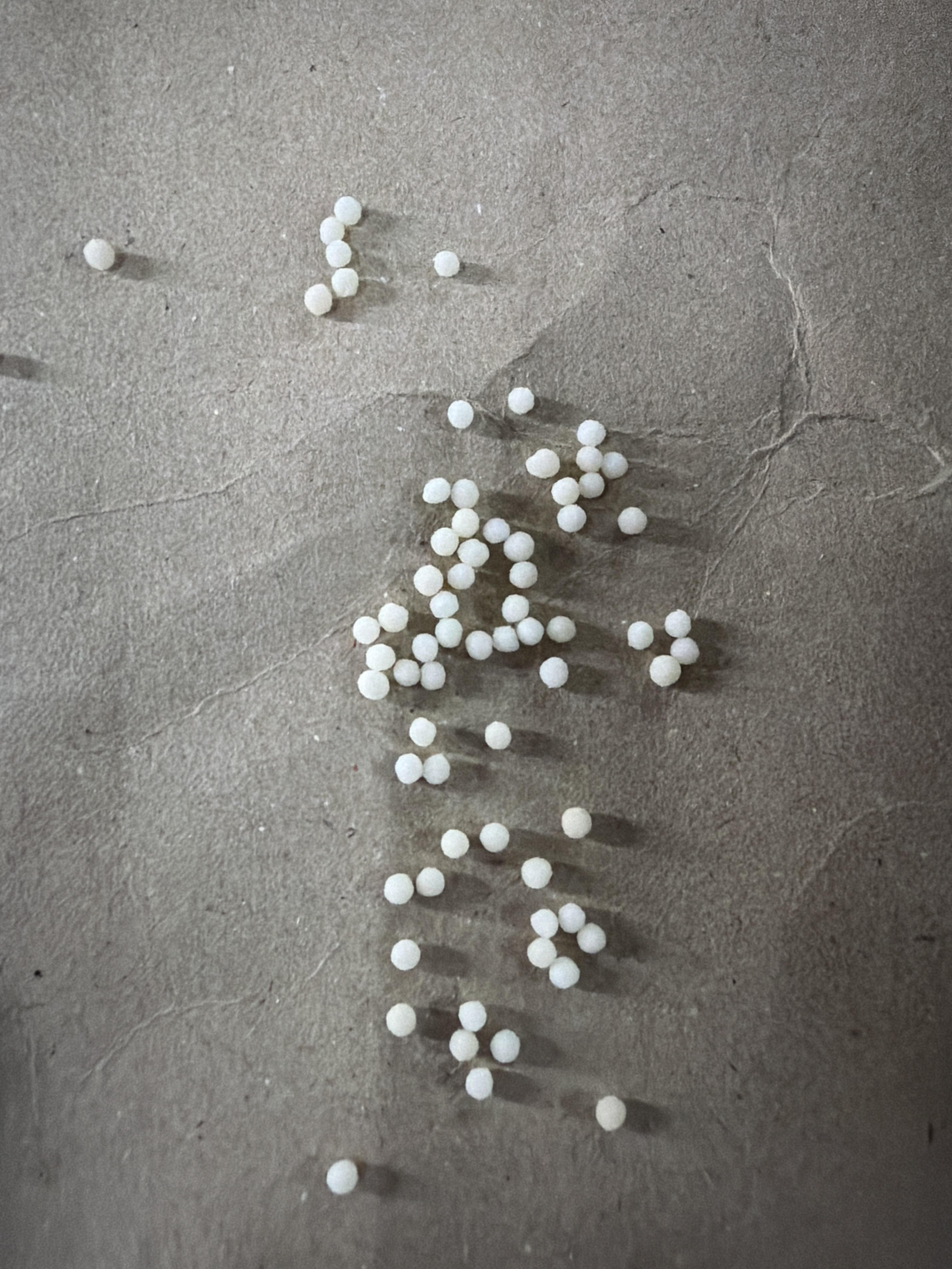pill: (326, 1159, 359, 1195), (595, 1095, 626, 1131), (83, 238, 116, 271), (548, 956, 580, 989), (490, 1029, 520, 1064), (386, 1003, 416, 1038), (525, 448, 560, 478), (649, 655, 681, 687), (449, 1028, 479, 1062), (561, 807, 592, 839), (521, 857, 552, 889), (503, 531, 535, 562), (457, 538, 489, 569), (527, 936, 557, 969), (384, 873, 414, 905), (357, 670, 389, 700), (479, 822, 509, 853), (390, 940, 420, 971), (377, 603, 408, 633), (577, 922, 606, 954), (458, 1000, 487, 1032), (465, 1067, 493, 1100), (557, 503, 587, 533), (413, 566, 443, 596), (416, 866, 445, 897), (539, 657, 568, 688), (394, 753, 423, 784), (333, 196, 362, 227), (304, 284, 332, 316), (440, 829, 469, 859), (617, 506, 647, 535), (429, 590, 459, 619), (430, 527, 459, 557), (450, 478, 479, 508), (530, 908, 558, 939), (409, 716, 437, 747), (365, 643, 396, 671), (331, 267, 359, 298), (423, 753, 450, 785), (451, 507, 478, 539), (515, 617, 544, 646), (501, 594, 530, 623), (670, 637, 700, 665), (546, 615, 576, 643), (465, 630, 493, 660), (508, 561, 538, 589), (434, 618, 462, 648), (411, 633, 439, 663), (558, 902, 585, 933), (447, 399, 474, 430), (484, 721, 512, 750), (447, 561, 475, 590), (507, 386, 535, 415), (664, 609, 691, 639), (576, 419, 606, 446), (600, 451, 628, 479), (551, 477, 579, 505), (352, 616, 380, 644), (422, 477, 450, 505), (627, 621, 654, 650), (393, 658, 420, 687), (482, 517, 511, 544), (433, 250, 460, 278), (320, 216, 345, 246), (326, 239, 351, 268), (492, 626, 519, 652), (579, 472, 605, 499), (576, 446, 603, 472), (421, 662, 445, 690)
